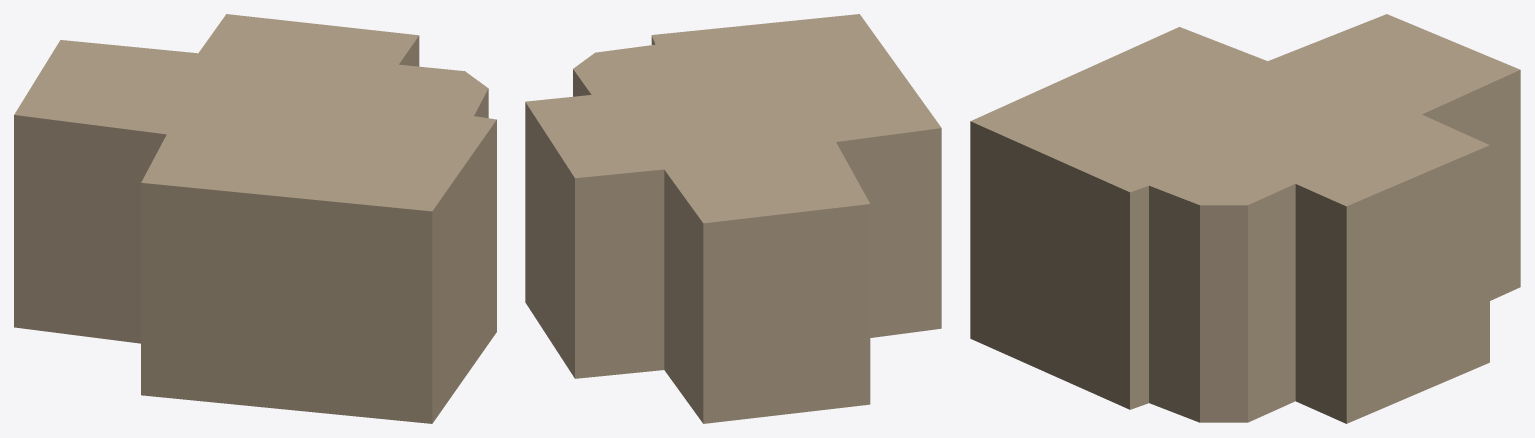
Rendered from bld_106338967.dae.
3 views of the same model, side by side, from view 1: azimuth 30°, elevation 25°; view 2: azimuth 150°, elevation 25°; view 3: azimuth 270°, elevation 25° (orthographic). The views are drawn at different scales.
Parts seen in each view (by area): view 1: bld_106338967; view 2: bld_106338967; view 3: bld_106338967.
Part boxes in pixels (bbox=[...]): bld_106338967: bbox=[14, 14, 496, 423]; bld_106338967: bbox=[525, 14, 941, 423]; bld_106338967: bbox=[970, 14, 1520, 423].
Bounding box in the file's own units: 15.18 × 18.34 × 8.
